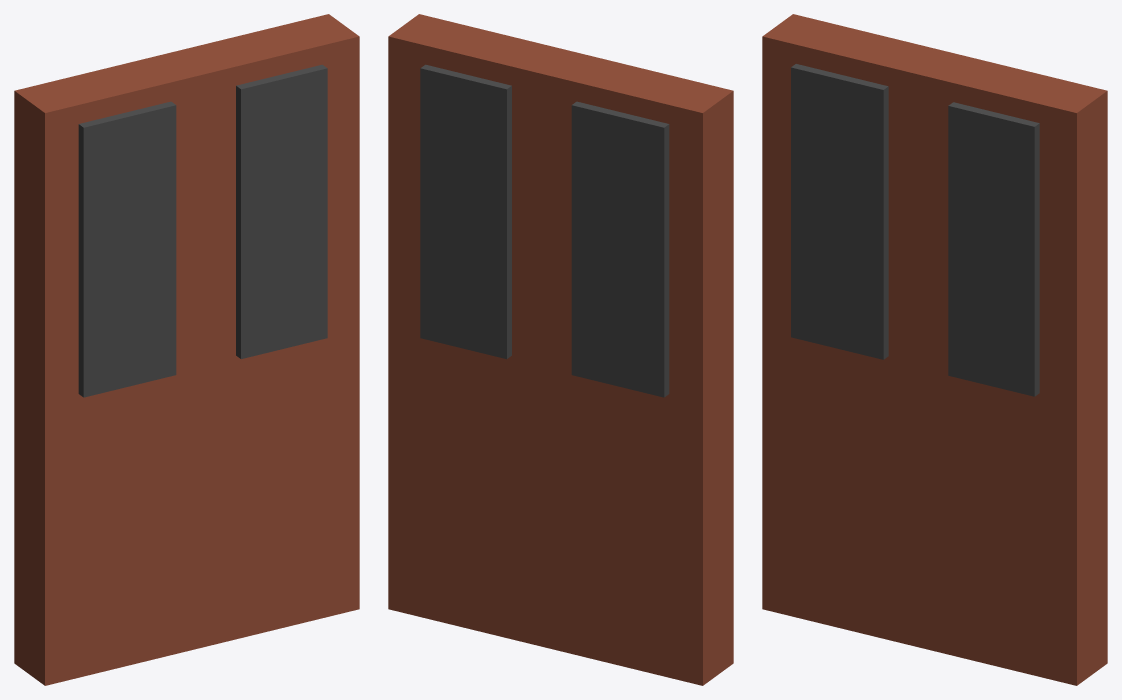
The model's file is Door.fbx.
3 views of the same model, side by side, from view 1: azimuth 30°, elevation 25°; view 2: azimuth 150°, elevation 25°; view 3: azimuth 330°, elevation 25° (orthographic).
Parts seen in each view (by area): view 1: Cube, Cube.001; view 2: Cube, Cube.001; view 3: Cube, Cube.001.
Boxes of the visible parts, <box> form: Cube: <box>14,14,359,685</box>; Cube.001: <box>78,64,327,397</box>; Cube: <box>388,14,733,685</box>; Cube.001: <box>420,64,669,397</box>; Cube: <box>762,14,1107,685</box>; Cube.001: <box>791,64,1039,396</box>.
Bounding box in the file's own units: 200 × 348 × 44.93.
